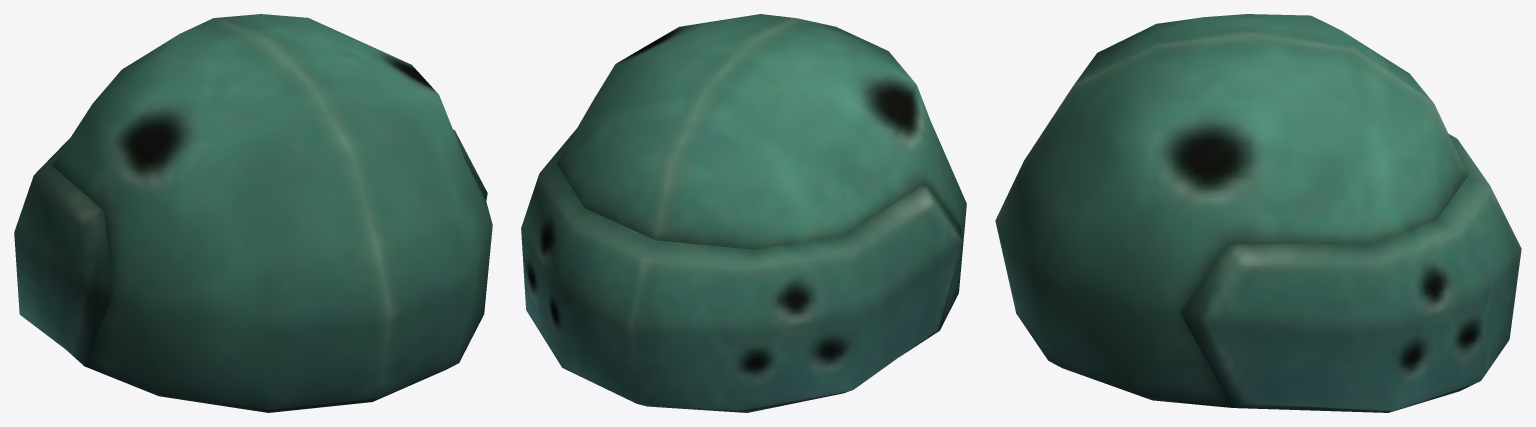
The model's file is strikeHelmet.glb.
The picture shows the model from 3 angles, left to right: view 1: azimuth 30°, elevation 25°; view 2: azimuth 150°, elevation 25°; view 3: azimuth 270°, elevation 25°; orthographic projection. The views are drawn at different scales.
Parts seen in each view (by area): view 1: strikeHelmet; view 2: strikeHelmet; view 3: strikeHelmet.
Boxes of the visible parts, left/top/right/bottom form: strikeHelmet: left=14, top=14, right=492, bottom=412; strikeHelmet: left=521, top=14, right=966, bottom=412; strikeHelmet: left=995, top=14, right=1521, bottom=412.
Size of the model in its own units: 0.3951 by 0.292 by 0.4407.
1 material, 1 textured.
